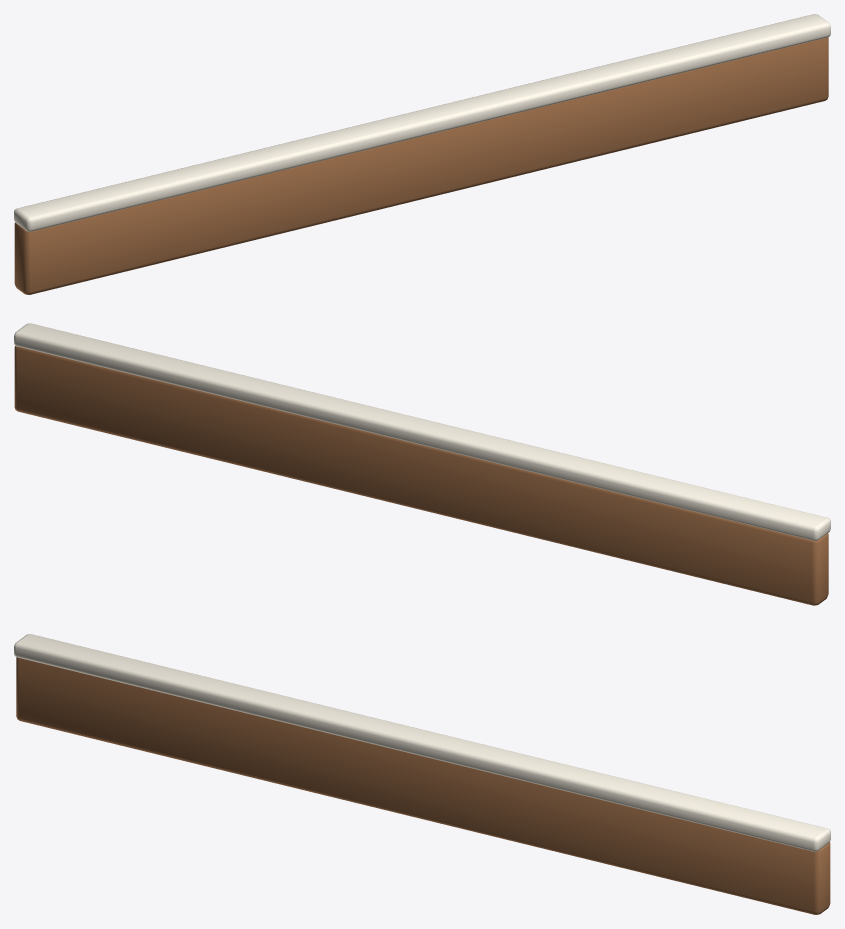
Rendered from baseboard-wall.glb.
The picture shows the model from 3 angles, top to bottom: view 1: azimuth 30°, elevation 25°; view 2: azimuth 150°, elevation 25°; view 3: azimuth 330°, elevation 25°; orthographic projection.
Visible parts, largest first — view 1: ShellBaseboardWall_Body, ShellBaseboardWall_TopTrim; view 2: ShellBaseboardWall_Body, ShellBaseboardWall_TopTrim; view 3: ShellBaseboardWall_Body, ShellBaseboardWall_TopTrim.
Boxes of the visible parts, x1,y1,x2,y2 form: ShellBaseboardWall_Body: [14, 37, 828, 294]; ShellBaseboardWall_TopTrim: [14, 14, 830, 231]; ShellBaseboardWall_Body: [14, 346, 828, 605]; ShellBaseboardWall_TopTrim: [14, 323, 830, 540]; ShellBaseboardWall_Body: [16, 657, 830, 914]; ShellBaseboardWall_TopTrim: [14, 634, 830, 851].
Bounding box in the file's own units: 2 × 0.19 × 0.068.
